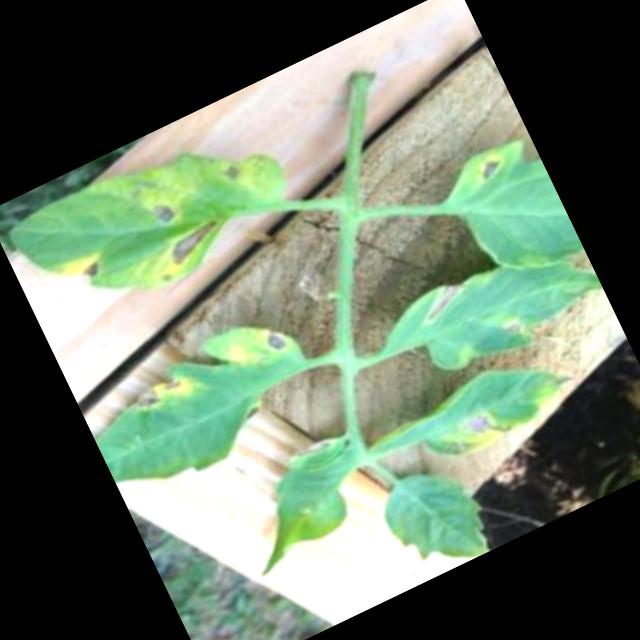Early_blight: (142, 215, 233, 287), (120, 363, 204, 425), (409, 273, 474, 330), (54, 246, 109, 294), (455, 408, 502, 454), (254, 322, 297, 366), (145, 196, 183, 232), (474, 151, 510, 184), (293, 436, 333, 464), (498, 316, 529, 344)
